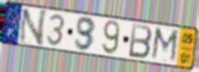3: (44, 13, 67, 48)
9: (73, 16, 98, 53), (100, 20, 122, 57)
B: (128, 22, 154, 61)
M: (149, 26, 181, 66)
N: (17, 8, 49, 47)
